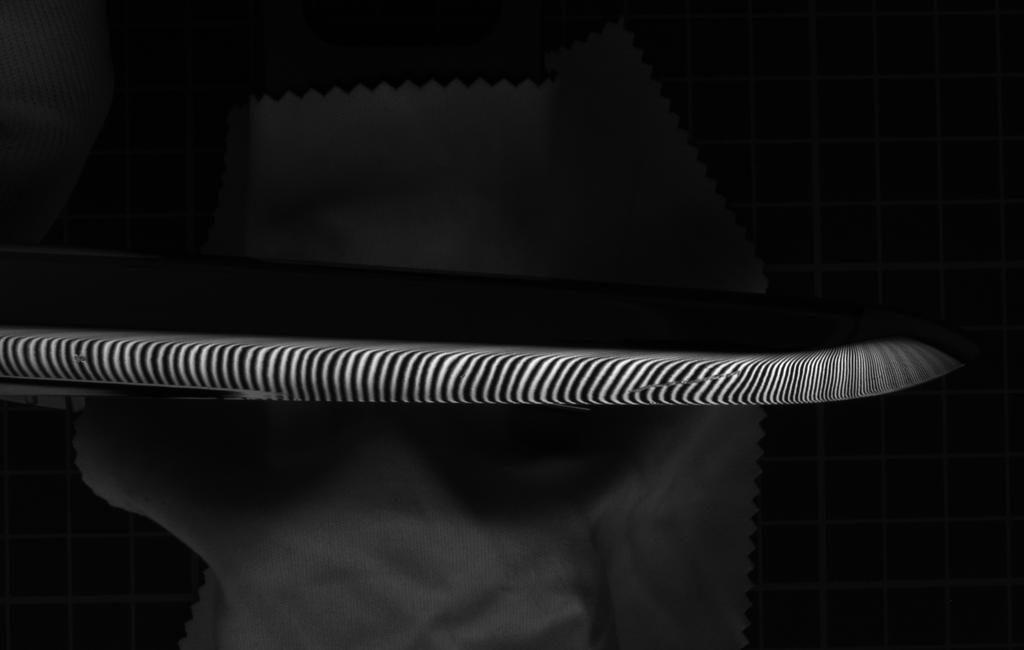Pierced: (69, 352, 93, 365)
Scratch: (622, 366, 749, 395)
